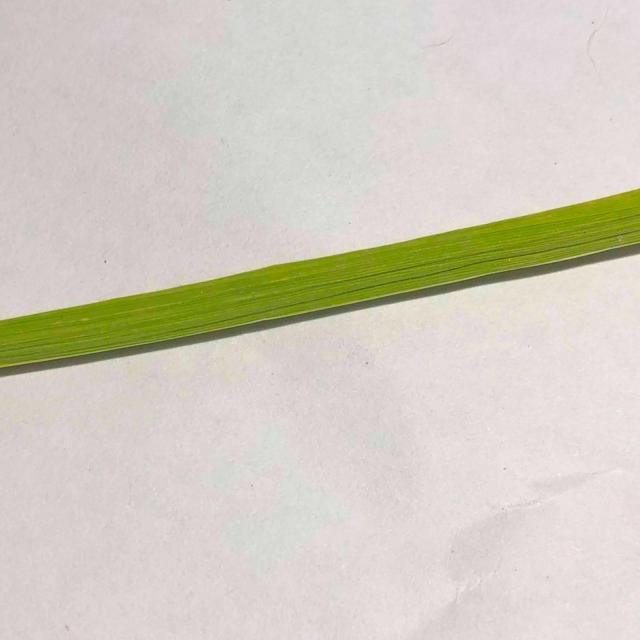healthy: (0, 183, 640, 394)
